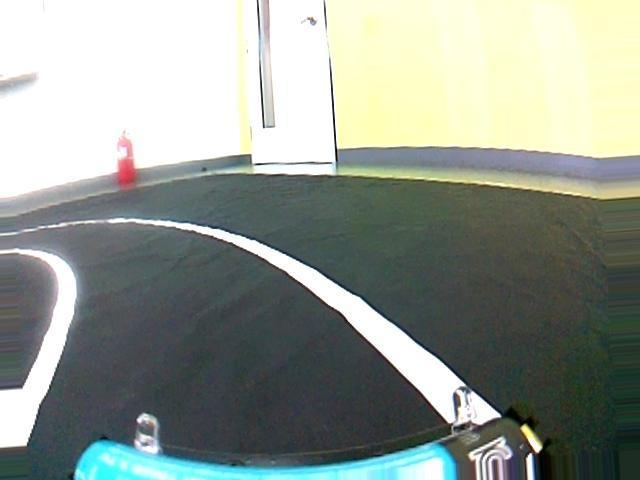left: (0, 197, 561, 478)
